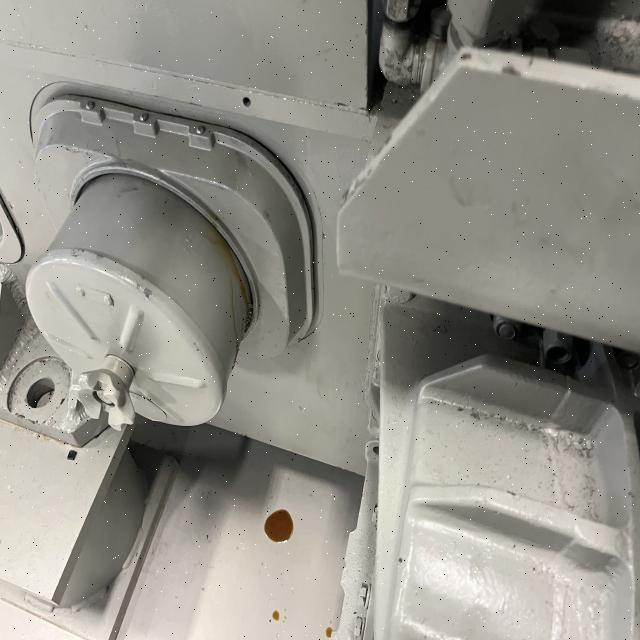Oil Leak: (190, 213, 267, 333), (263, 509, 295, 543), (324, 626, 333, 639), (272, 609, 280, 621)
